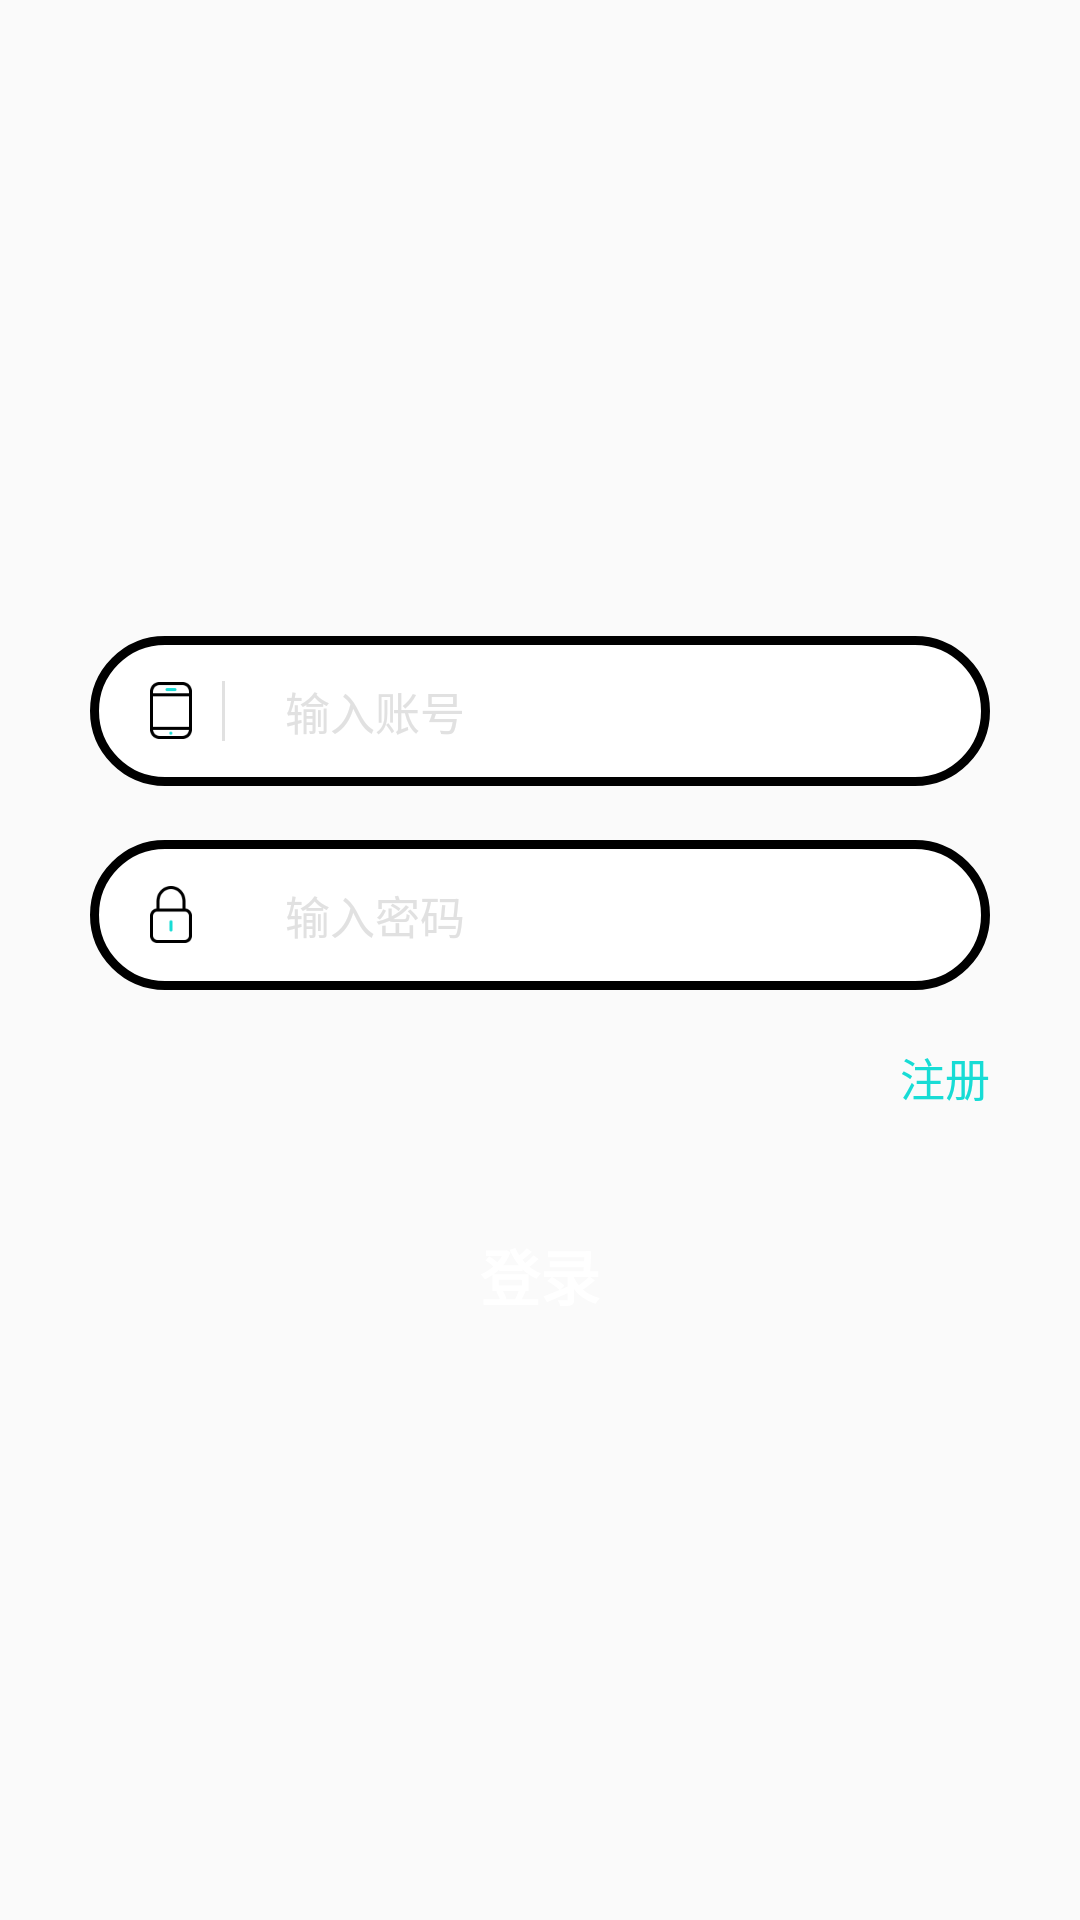

Where to tap for icons on this 1080px x 1920px app screen, as (x=x, y=y):
login phone: (x=171, y=710)
login pwd: (x=171, y=914)
